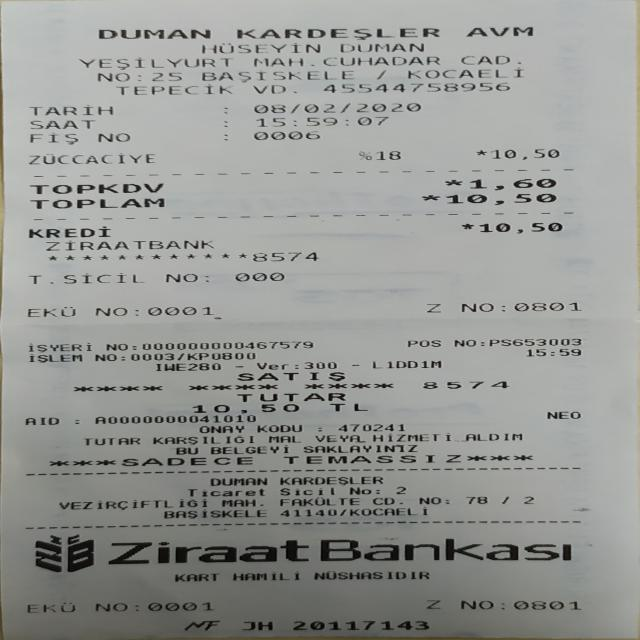text: (316, 537, 570, 564), (104, 539, 308, 566), (235, 26, 438, 40), (321, 81, 508, 93), (200, 69, 353, 82), (78, 56, 228, 69), (251, 102, 419, 113), (284, 454, 463, 464), (141, 340, 312, 350), (43, 240, 212, 250), (26, 152, 155, 165), (405, 66, 522, 80), (97, 27, 209, 41), (321, 54, 438, 67), (27, 183, 163, 194), (92, 414, 255, 423), (200, 42, 318, 54), (115, 83, 230, 95), (29, 198, 164, 208), (254, 116, 388, 126), (292, 620, 426, 630), (124, 456, 252, 466), (235, 391, 343, 402), (312, 570, 428, 580), (63, 270, 144, 284), (444, 193, 556, 203), (192, 402, 298, 412), (150, 435, 254, 445), (469, 178, 555, 190), (302, 444, 416, 453), (162, 508, 264, 518), (338, 41, 422, 53), (150, 304, 222, 318), (27, 225, 109, 237), (235, 372, 343, 381), (278, 475, 382, 484), (465, 25, 531, 39), (28, 104, 110, 115), (478, 222, 560, 233), (421, 379, 509, 389), (278, 496, 358, 507), (489, 148, 558, 160), (72, 383, 162, 392), (187, 382, 277, 391), (251, 250, 318, 262), (208, 444, 288, 454), (346, 506, 426, 516), (232, 570, 298, 582), (186, 487, 264, 497), (251, 129, 320, 140), (487, 338, 580, 346), (26, 304, 74, 319), (28, 118, 92, 129), (233, 269, 283, 283), (28, 130, 77, 144), (25, 600, 74, 614), (186, 351, 253, 361), (336, 422, 403, 432), (513, 600, 580, 610), (512, 301, 578, 311), (26, 342, 90, 352), (371, 359, 441, 368), (144, 602, 214, 611), (277, 507, 339, 517), (464, 431, 520, 442), (277, 485, 333, 496), (153, 362, 220, 371), (207, 476, 266, 486), (252, 55, 297, 68), (465, 53, 510, 66), (26, 353, 81, 363), (83, 436, 138, 446), (314, 433, 364, 444), (174, 571, 218, 583), (93, 304, 128, 318), (96, 70, 130, 84), (96, 130, 130, 144), (150, 69, 181, 84), (164, 270, 197, 284), (198, 424, 244, 434), (255, 424, 301, 434), (220, 496, 255, 509), (524, 348, 580, 356), (129, 352, 172, 362), (328, 401, 366, 412), (252, 82, 283, 95), (90, 602, 126, 613), (59, 499, 94, 510), (184, 620, 220, 630), (27, 271, 52, 285), (23, 416, 58, 426), (461, 599, 492, 610), (406, 338, 440, 348), (266, 434, 299, 444), (460, 302, 492, 312), (242, 621, 273, 631), (377, 148, 399, 162), (255, 361, 289, 370), (302, 360, 336, 369), (370, 495, 394, 507), (347, 485, 371, 496), (418, 494, 440, 506), (465, 494, 487, 506), (546, 411, 578, 419), (419, 193, 440, 205), (174, 445, 196, 456), (93, 352, 117, 362), (452, 338, 475, 348), (443, 178, 461, 190), (104, 341, 125, 351), (131, 304, 144, 318), (425, 599, 439, 610), (375, 67, 385, 81), (425, 302, 439, 312), (394, 484, 405, 496), (522, 493, 533, 505), (500, 493, 510, 506), (288, 82, 296, 95), (358, 149, 366, 162), (254, 496, 262, 509), (174, 351, 183, 361), (233, 361, 243, 370), (338, 506, 346, 517), (220, 130, 227, 142), (474, 150, 487, 156), (351, 360, 358, 369), (133, 604, 140, 613), (306, 62, 316, 68), (204, 269, 208, 284), (118, 352, 124, 362), (374, 484, 379, 496), (136, 70, 140, 84), (223, 102, 227, 116), (220, 120, 227, 128), (479, 338, 485, 347), (444, 494, 448, 507), (500, 301, 504, 312), (132, 341, 136, 351), (293, 360, 297, 370), (73, 415, 77, 425), (317, 423, 321, 433), (501, 599, 503, 610)
